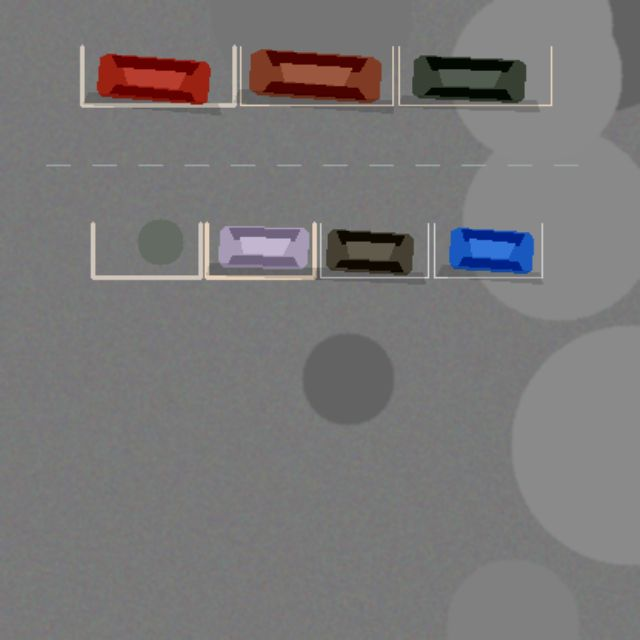space-empty: (92, 223, 200, 277)
space-occupied: (398, 46, 551, 105), (82, 46, 234, 105), (240, 46, 392, 105), (206, 223, 314, 277), (320, 223, 428, 277), (434, 223, 542, 277)
